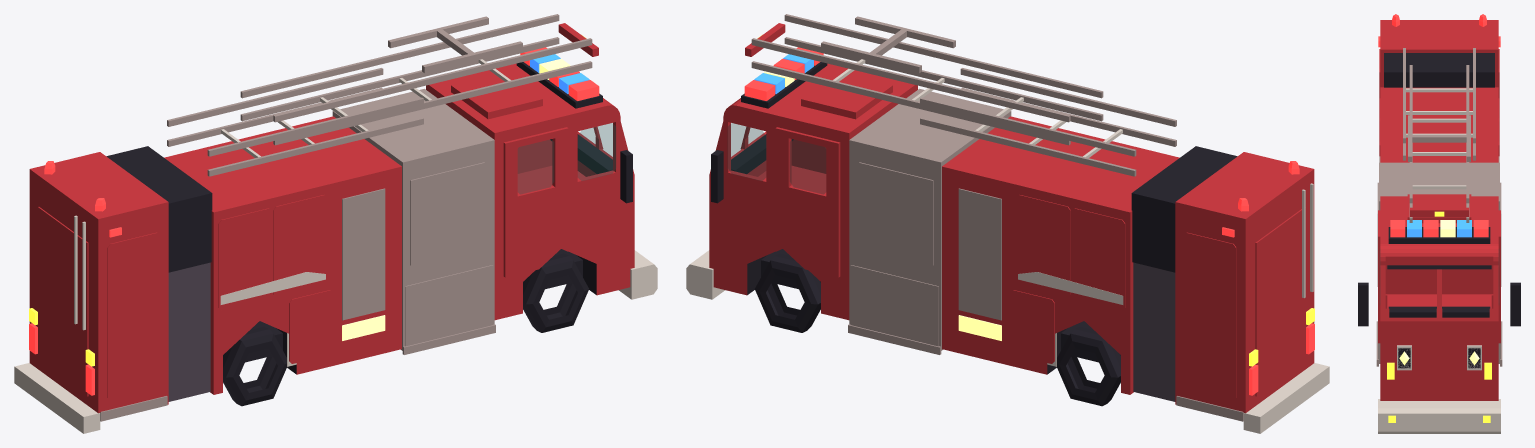
The picture shows the model from 3 angles, left to right: view 1: azimuth 30°, elevation 25°; view 2: azimuth 150°, elevation 25°; view 3: azimuth 270°, elevation 25°; orthographic projection. The views are drawn at different scales.
Visible parts, largest first — view 1: equipment_body_pal_survivorRed, rear_compartment_pal_survivorRed, shutter_housing_pal_sidewalk, crew_cab_pal_survivorRed, ladder_pal_sidewalk, doorL_pal_survivorRed, pump_bay_pal_uiDark, pump_bay_pal_asphalt, equipment_body_pal_sidewalk, body_pal_picketWhite, wheelRL_pal_uiDark, wheelFL_pal_uiDark (+10 smaller); view 2: equipment_body_pal_survivorRed, rear_compartment_pal_survivorRed, shutter_housing_pal_sidewalk, crew_cab_pal_survivorRed, ladder_pal_sidewalk, doorR_pal_survivorRed, pump_bay_pal_uiDark, pump_bay_pal_asphalt, equipment_body_pal_sidewalk, body_pal_picketWhite, wheelRR_pal_uiDark, wheelFR_pal_uiDark (+9 smaller); view 3: crew_cab_pal_survivorRed, equipment_body_pal_survivorRed, shutter_housing_pal_sidewalk, rear_compartment_pal_survivorRed, body_pal_picketWhite, crew_cab_pal_uiDark, pump_bay_pal_uiDark, ladder_pal_sidewalk, ladder_pal_picketWhite, sirenL_emi_sirenRed, ladder_pal_survivorRed, crew_cab_pal_picketWhite (+9 smaller).
Part boxes in pixels (x1,y1,x2,y2): equipment_body_pal_survivorRed: (164,116,401,394); rear_compartment_pal_survivorRed: (29,152,168,413); shutter_housing_pal_sidewalk: (332,88,495,354); crew_cab_pal_survivorRed: (426,63,634,320); ladder_pal_sidewalk: (167,14,592,176); doorL_pal_survivorRed: (503,127,568,277); pump_bay_pal_uiDark: (106,146,212,272); pump_bay_pal_asphalt: (168,262,210,401); equipment_body_pal_sidewalk: (342,188,385,320); body_pal_picketWhite: (14,250,657,433); wheelRL_pal_uiDark: (223,327,286,406); wheelFL_pal_uiDark: (523,253,588,332); equipment_body_pal_survivorRed: (942,116,1179,394); rear_compartment_pal_survivorRed: (1175,152,1314,413); shutter_housing_pal_sidewalk: (848,88,1011,354); crew_cab_pal_survivorRed: (709,63,917,320); ladder_pal_sidewalk: (751,14,1176,176); doorR_pal_survivorRed: (775,127,840,277); pump_bay_pal_uiDark: (1131,146,1237,272); pump_bay_pal_asphalt: (1133,262,1175,401); equipment_body_pal_sidewalk: (958,188,1001,320); body_pal_picketWhite: (686,250,1329,433); wheelRR_pal_uiDark: (1057,327,1120,406); wheelFR_pal_uiDark: (755,253,820,332); crew_cab_pal_survivorRed: (1380,194,1498,400); equipment_body_pal_survivorRed: (1379,87,1499,162); shutter_housing_pal_sidewalk: (1376,162,1502,366); rear_compartment_pal_survivorRed: (1379,20,1499,155); body_pal_picketWhite: (1378,399,1500,433); crew_cab_pal_uiDark: (1358,227,1520,368); pump_bay_pal_uiDark: (1384,53,1494,87); ladder_pal_sidewalk: (1403,48,1475,222); ladder_pal_picketWhite: (1406,88,1472,189); sirenL_emi_sirenRed: (1390,220,1438,237); ladder_pal_survivorRed: (1410,207,1468,216); crew_cab_pal_picketWhite: (1397,345,1481,370).
Bounding box in the file's own units: 7.38 × 3.46 × 2.1.
